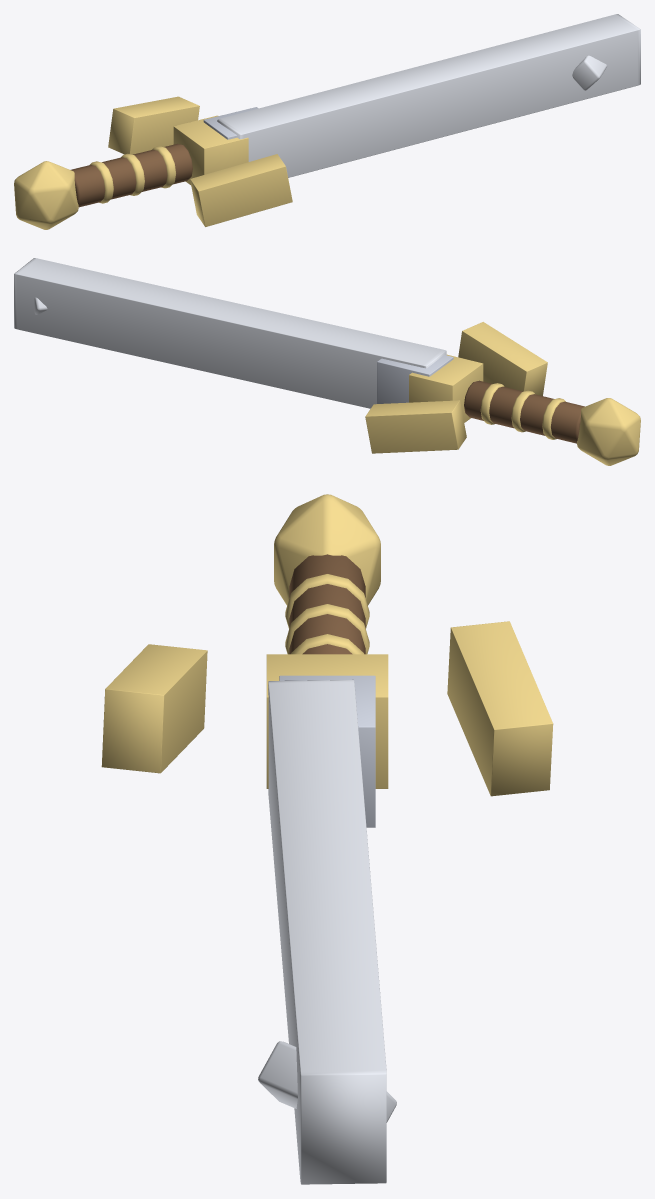
The model's file is Arthur_Sword.glb.
3 renders of one model, top to bottom at view 1: azimuth 30°, elevation 25°; view 2: azimuth 150°, elevation 25°; view 3: azimuth 270°, elevation 25°, orthographic. The views are drawn at different scales.
Visible parts, largest first — view 1: Arthur_Sword; view 2: Arthur_Sword; view 3: Arthur_Sword.
Part boxes in pixels (bbox=[...]): Arthur_Sword: bbox=[14, 14, 640, 229]; Arthur_Sword: bbox=[14, 258, 640, 465]; Arthur_Sword: bbox=[101, 494, 553, 1184].
Size of the model in its own units: 2.78 by 0.2924 by 0.8883.
